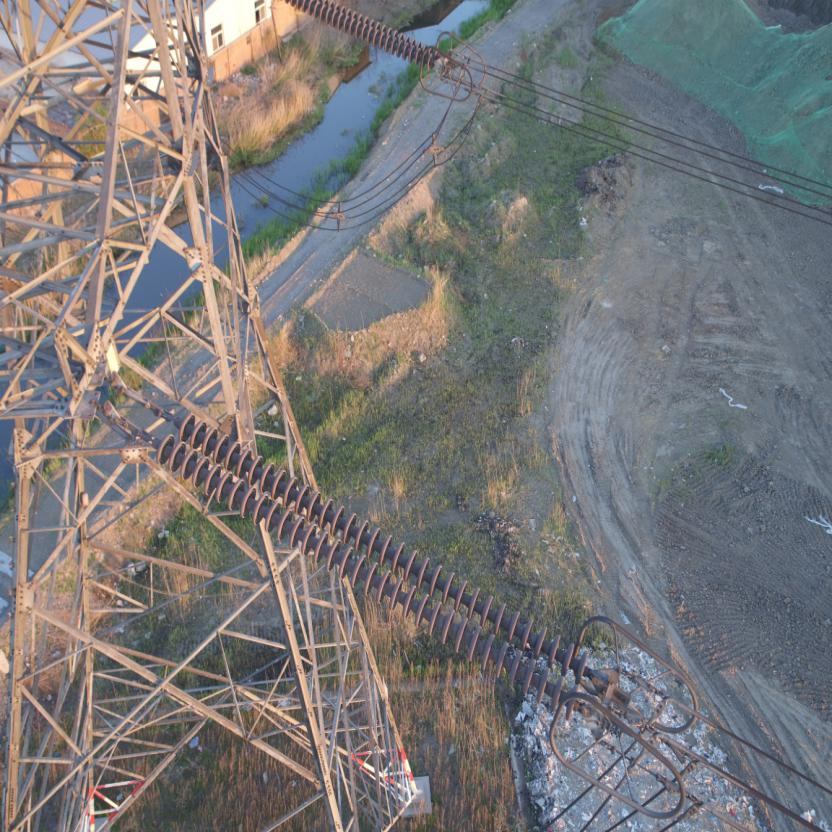insulator: (131, 397, 592, 724), (273, 0, 441, 72)
